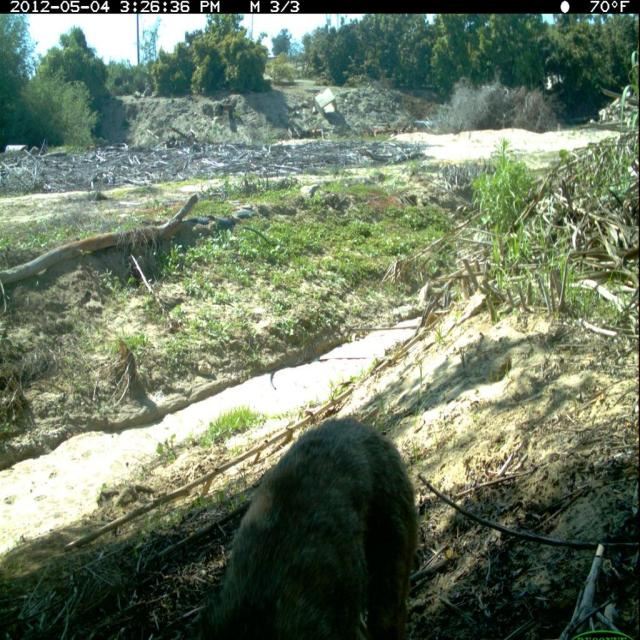coyote: (192, 407, 420, 640)
